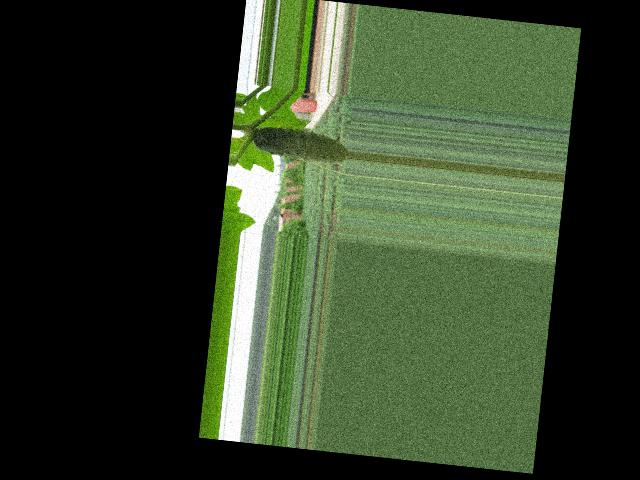cucumber: (252, 125, 350, 166)
